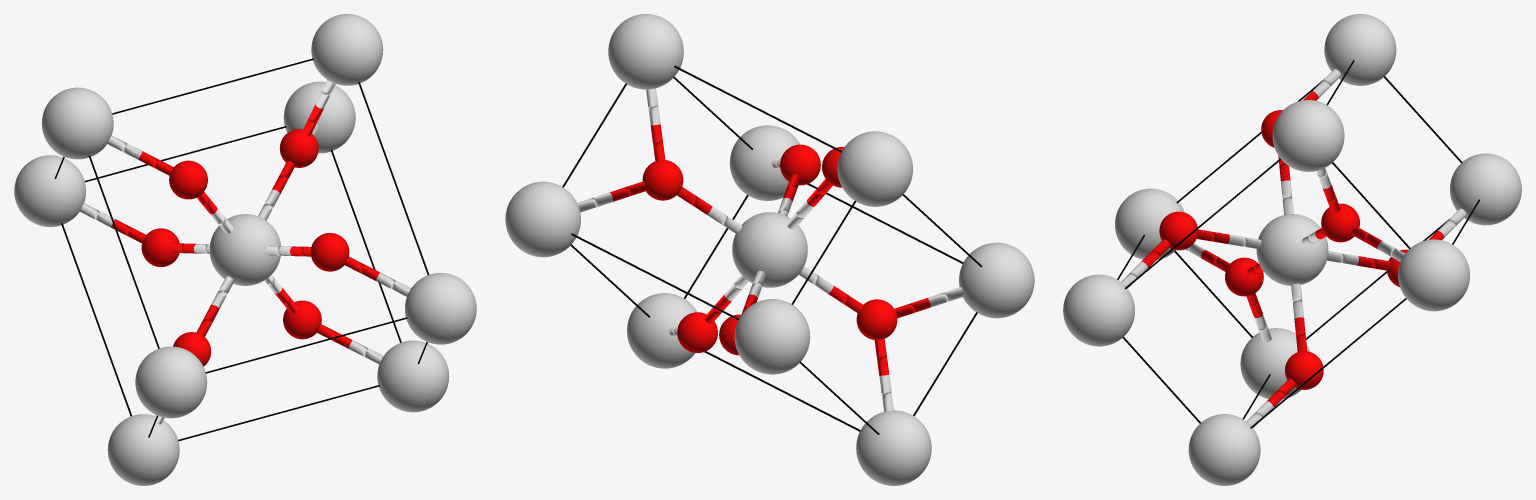
File: MnO₂.glb
3 renders of one model, left to right at view 1: azimuth 30°, elevation 25°; view 2: azimuth 150°, elevation 25°; view 3: azimuth 270°, elevation 25°, orthographic. The views are drawn at different scales.
Parts seen in each view (by area): view 1: UnitCellSegment_0; view 2: UnitCellSegment_0; view 3: UnitCellSegment_0.
Part boxes in pixels (<box>): UnitCellSegment_0: <box>14,14,476,485</box>; UnitCellSegment_0: <box>505,14,1034,485</box>; UnitCellSegment_0: <box>1063,14,1521,485</box>.
Size of the model in its own units: 0.6199 by 0.6731 by 0.6984.
